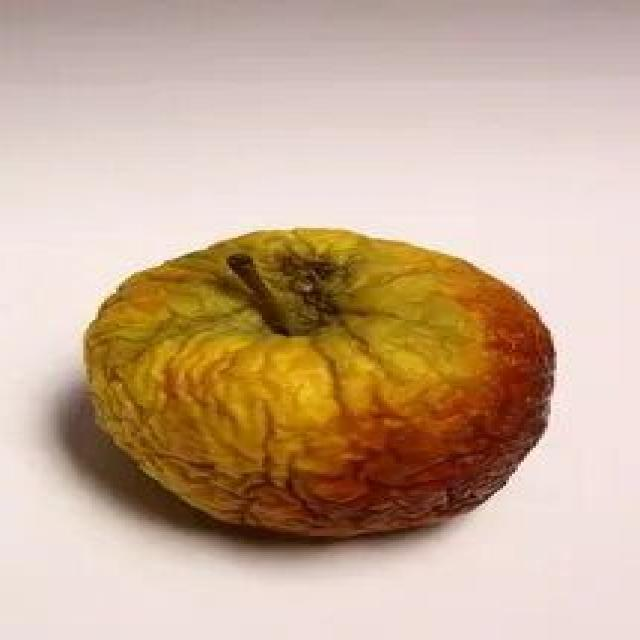Rotten: (99, 227, 544, 535)
